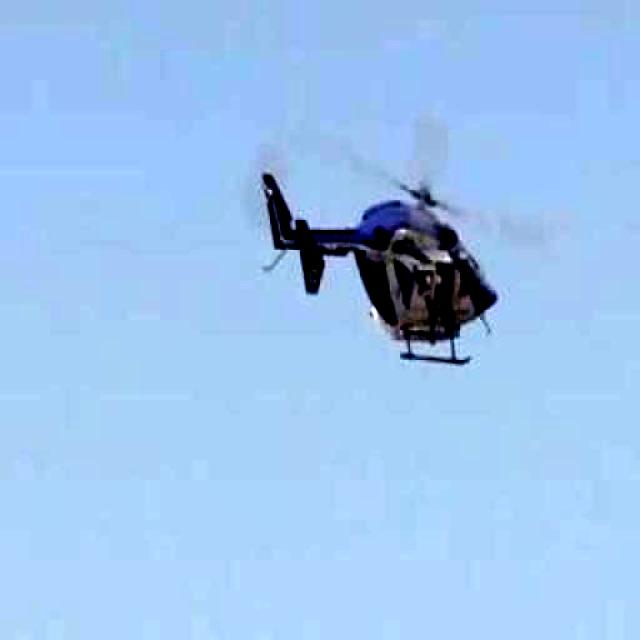drone: (225, 79, 609, 419)
